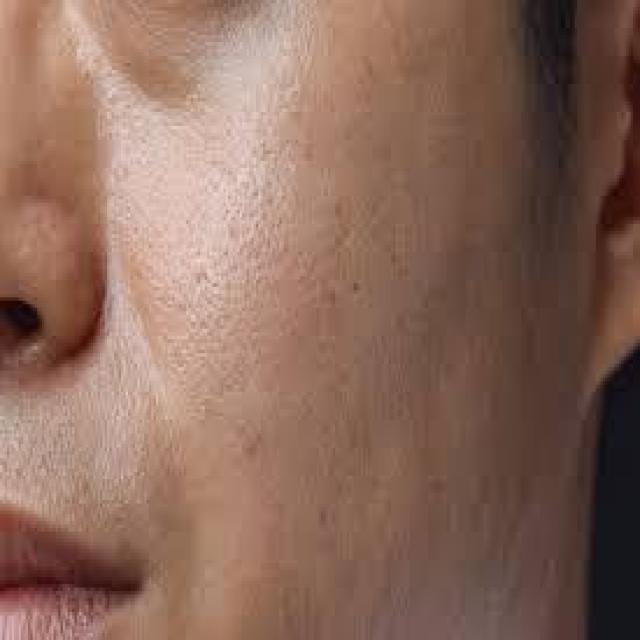Englarged-Pores: (178, 190, 292, 422)
